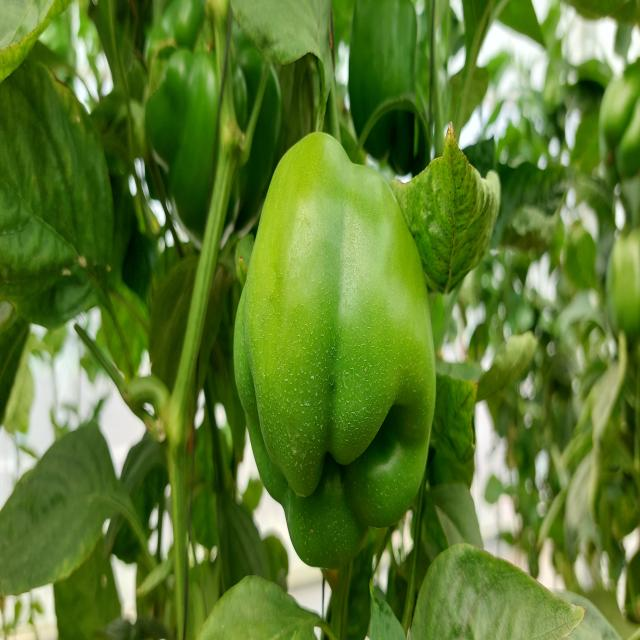Green--Not-ready-to-harvest: (234, 155, 442, 557), (148, 2, 281, 245), (348, 0, 453, 161)
